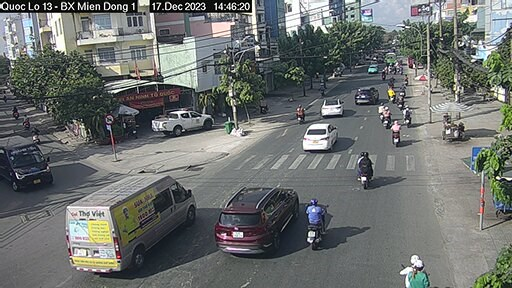car: (64, 168, 198, 272), (231, 180, 299, 257), (2, 134, 52, 190), (144, 109, 226, 138), (305, 125, 336, 155), (324, 95, 342, 117), (359, 84, 375, 106)
motorbike: (303, 198, 325, 248), (354, 153, 374, 189)
